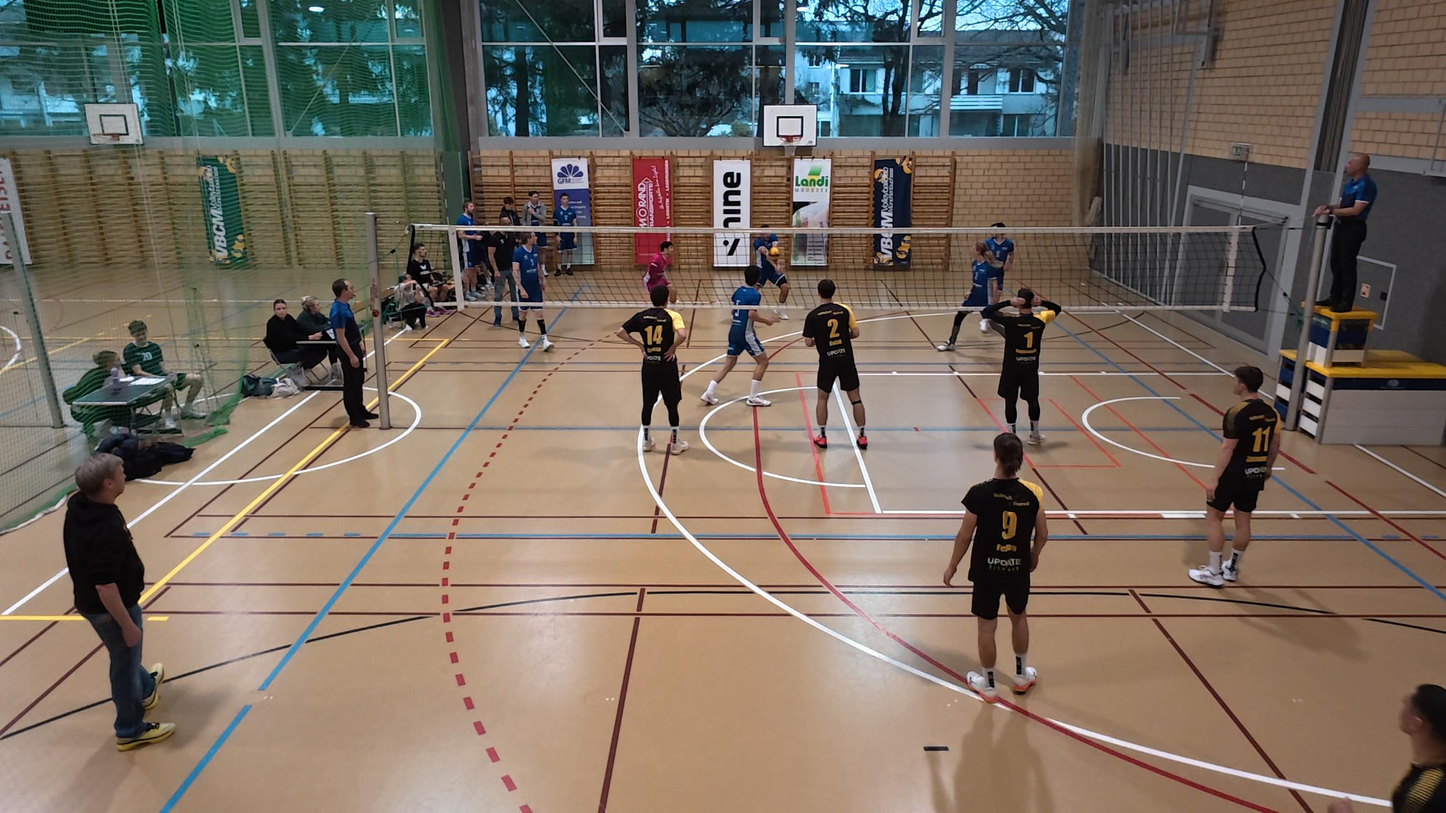ricezione: (738, 216, 793, 318)
